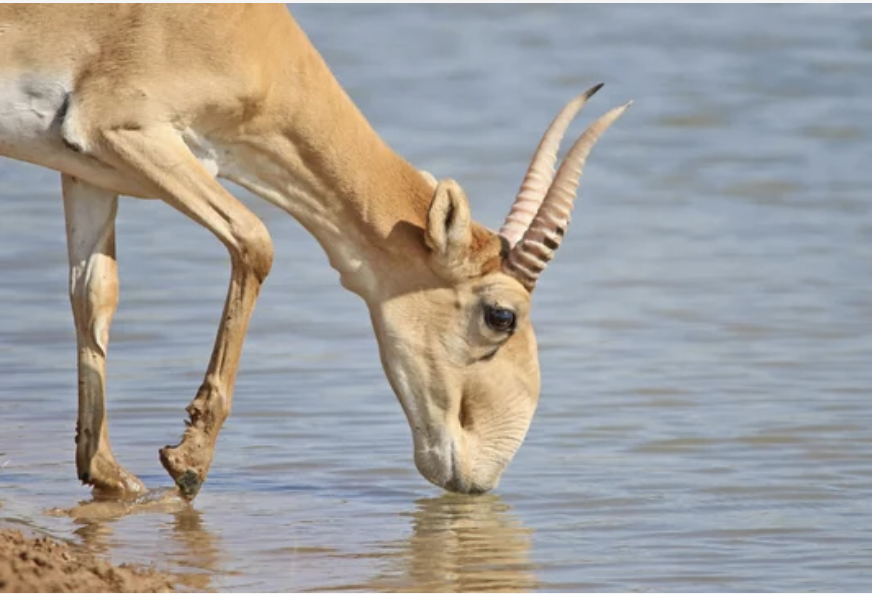saiga: (2, 9, 636, 527)
